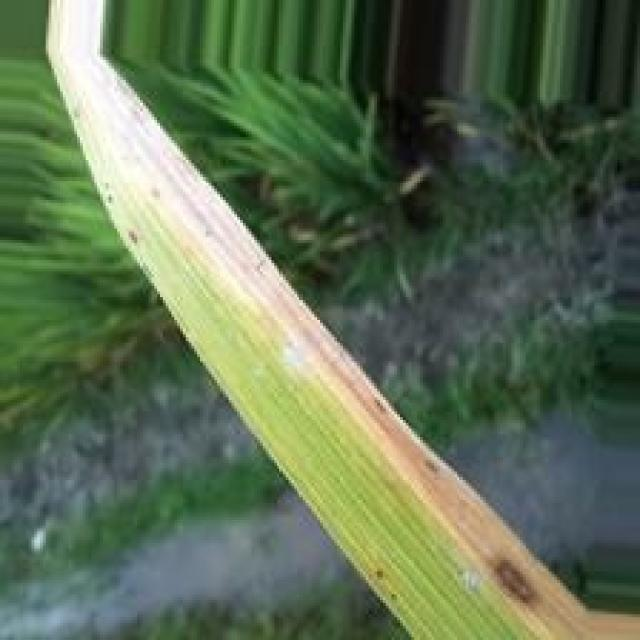Rice Tungro: (56, 59, 639, 638)
